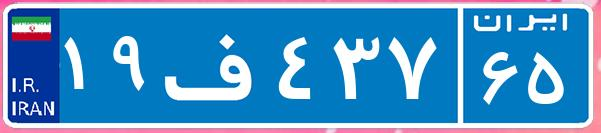1: (57, 26, 110, 107)
3: (330, 28, 385, 110)
4: (273, 28, 330, 110)
5: (525, 38, 570, 115)
6: (475, 38, 525, 113)
7: (385, 28, 445, 110)
9: (110, 28, 158, 105)
ف: (158, 15, 273, 115)
